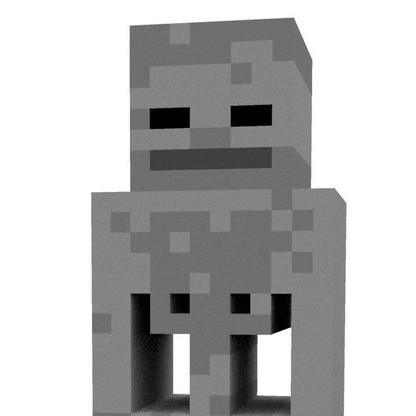skeleton: (80, 12, 353, 333)
